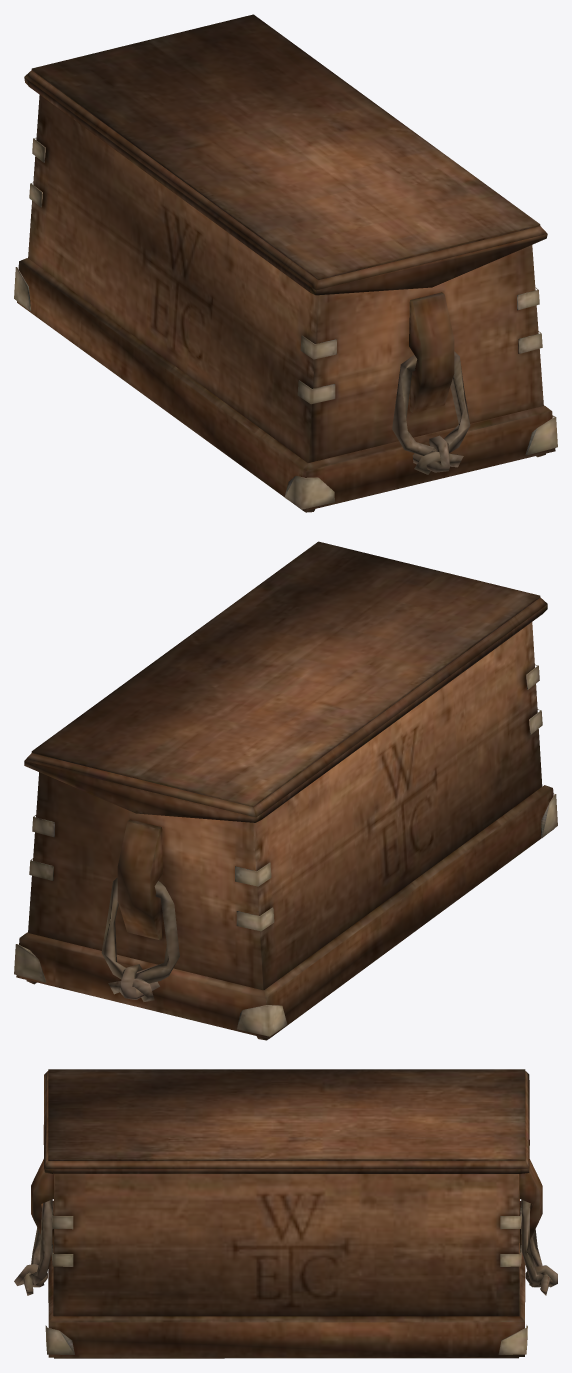
File: wooden_crate_02.glb
The picture shows the model from 3 angles, top to bottom: view 1: azimuth 30°, elevation 25°; view 2: azimuth 150°, elevation 25°; view 3: azimuth 270°, elevation 25°; orthographic projection. The views are drawn at different scales.
Visible parts, largest first — view 1: wooden_crate_02; view 2: wooden_crate_02; view 3: wooden_crate_02.
Part boxes in pixels (box(x1,y1,x2,y2)): wooden_crate_02: box(14, 14, 557, 512); wooden_crate_02: box(14, 541, 557, 1040); wooden_crate_02: box(14, 1069, 557, 1358).
Bounding box in the file's own units: 0.5291 × 0.4628 × 1.16.
1 material, 1 textured.
